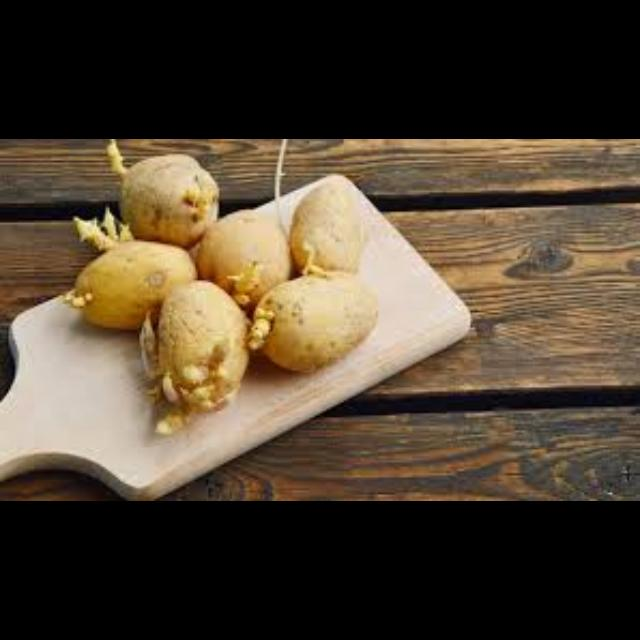Sprouted potato: (136, 279, 252, 436), (244, 262, 384, 383), (62, 212, 206, 322), (96, 142, 230, 246), (199, 208, 301, 308), (291, 176, 375, 284)
